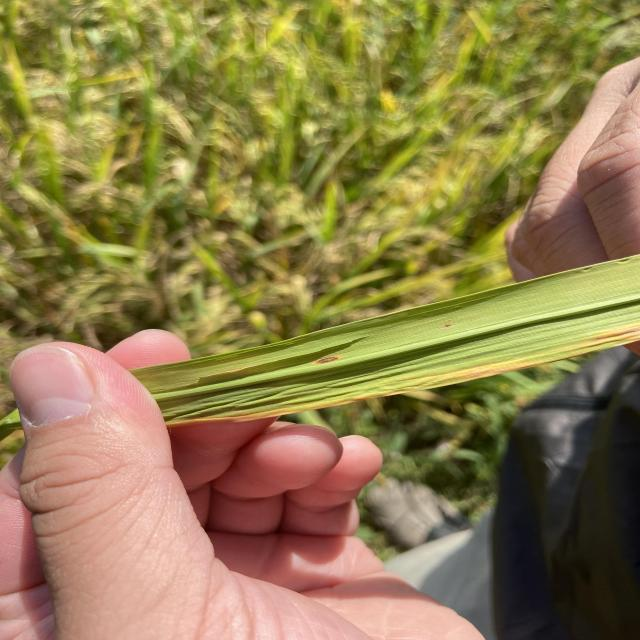Dom nau: (317, 357, 338, 363), (445, 325, 449, 327)
